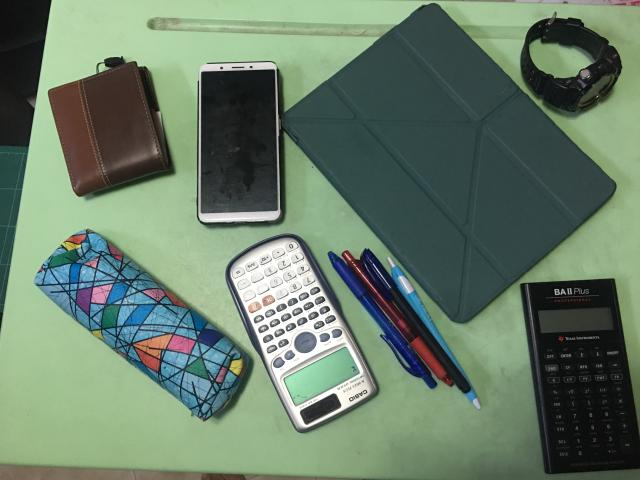Mobile phone: (198, 61, 282, 224)
Pen: (329, 250, 482, 411)
Wallet: (49, 61, 170, 196)
Watch: (521, 12, 621, 111)
